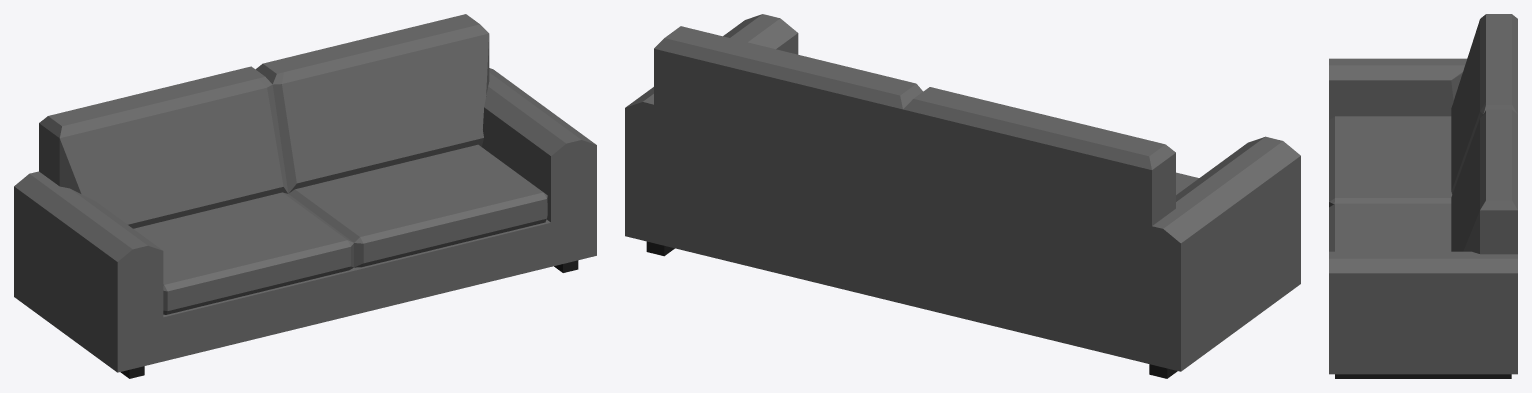
Rendered from Sofa_Double.fbx.
3 renders of one model, left to right at view 1: azimuth 30°, elevation 25°; view 2: azimuth 150°, elevation 25°; view 3: azimuth 270°, elevation 25°, orthographic. The views are drawn at different scales.
Parts seen in each view (by area): view 1: Sofa; view 2: Sofa; view 3: Sofa.
Boxes of the visible parts, box(x1,y1,x2,y2) form: Sofa: box(14, 14, 596, 378); Sofa: box(625, 14, 1300, 378); Sofa: box(1329, 14, 1517, 378).
Size of the model in its own units: 398 by 149 by 149.
